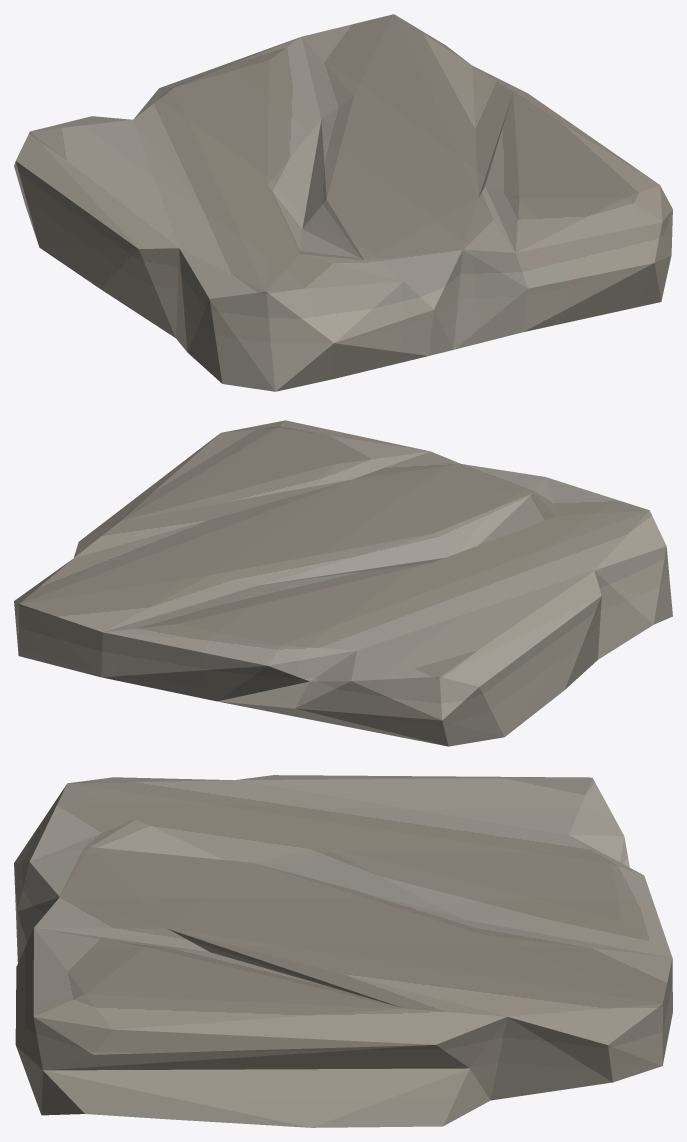
The model's file is 3D_Stair3.fbx.
The picture shows the model from 3 angles, top to bottom: view 1: azimuth 30°, elevation 25°; view 2: azimuth 150°, elevation 25°; view 3: azimuth 270°, elevation 25°; orthographic projection. The views are drawn at different scales.
Parts seen in each view (by area): view 1: Stair3; view 2: Stair3; view 3: Stair3.
Part boxes in pixels (x1,y1,x2,y2): Stair3: [14, 14, 672, 391]; Stair3: [14, 420, 672, 746]; Stair3: [14, 775, 672, 1127].
Size of the model in its own units: 95.48 by 19.66 by 101.
